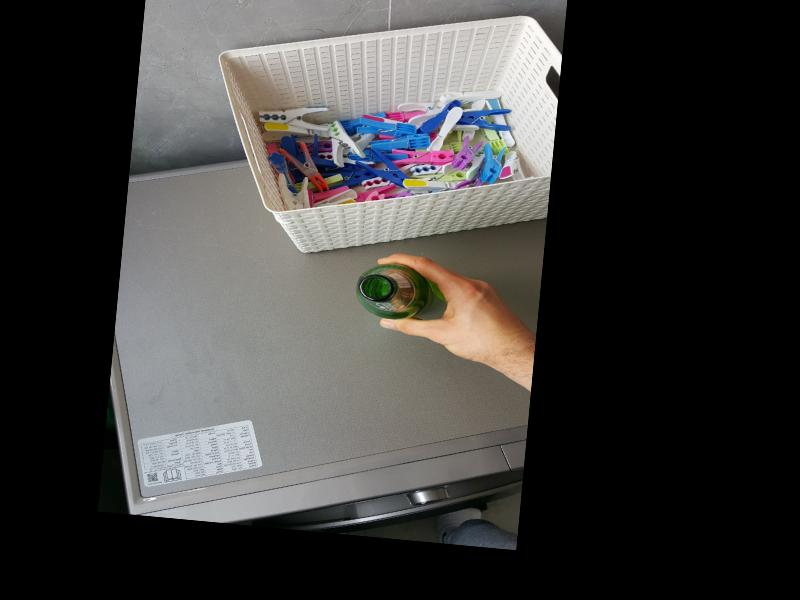Beer: (353, 260, 436, 323)
